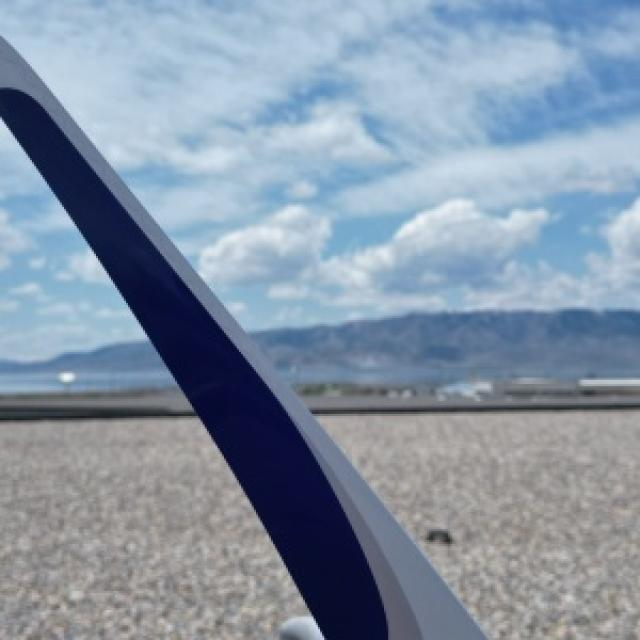healthy: (0, 36, 484, 638), (0, 420, 299, 638)
